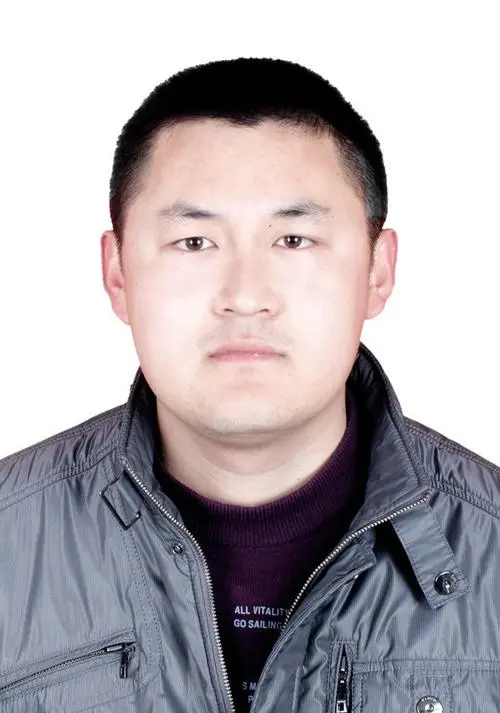normal: (103, 57, 398, 433)
